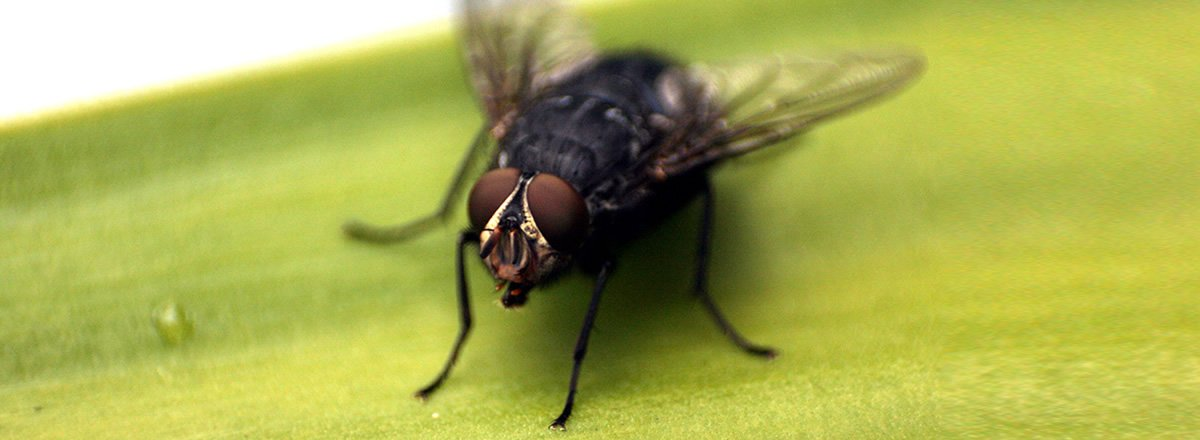fly: (304, 1, 937, 435)
